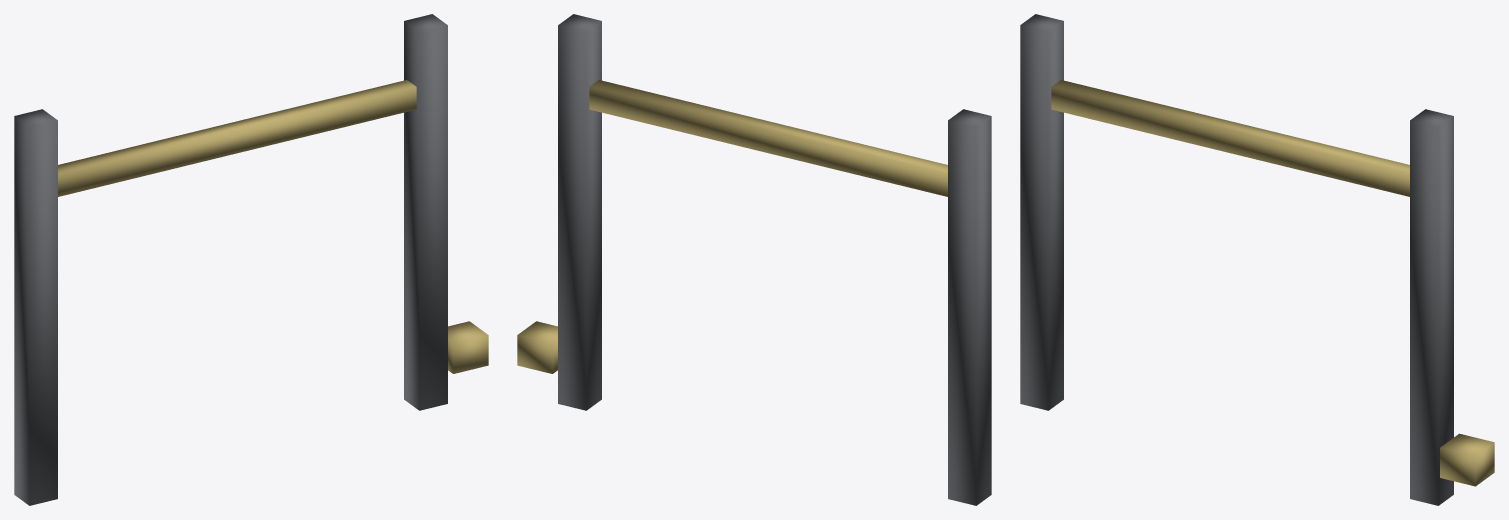
File: queue_gate_02.glb
The picture shows the model from 3 angles, left to right: view 1: azimuth 30°, elevation 25°; view 2: azimuth 150°, elevation 25°; view 3: azimuth 330°, elevation 25°; orthographic projection.
Visible parts, largest first — view 1: world; view 2: world; view 3: world.
Boxes of the visible parts, box(x1,y1,x2,y2) form: world: box(14, 14, 488, 505); world: box(517, 14, 991, 505); world: box(1020, 14, 1494, 505).
Size of the model in its own units: 1.24 by 0.98 by 0.09.
